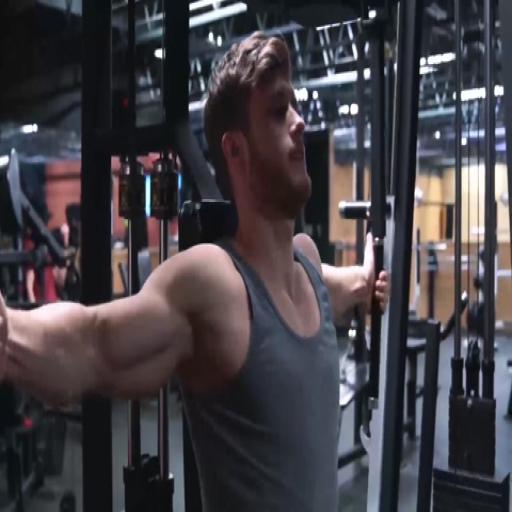exercise: (0, 30, 393, 510)
